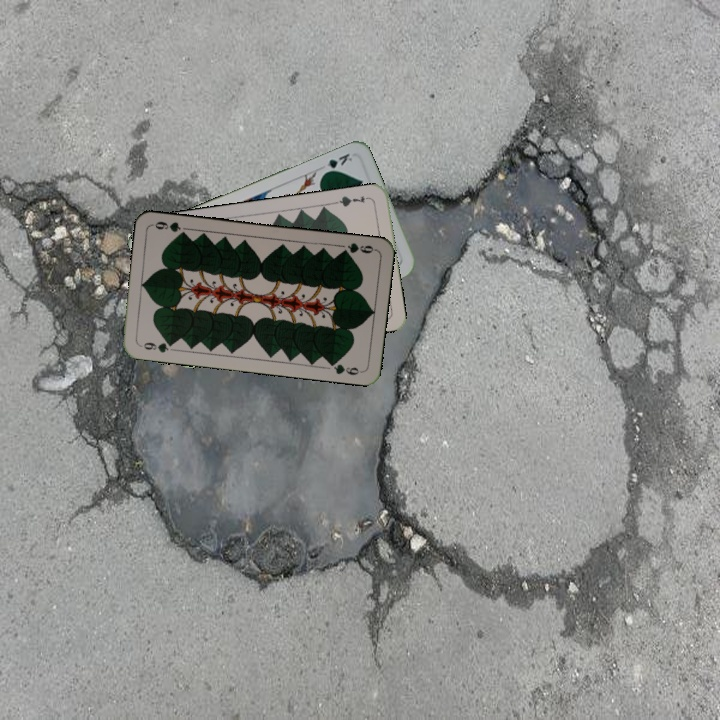G7: (332, 192, 372, 209)
G9: (337, 239, 378, 257), (136, 338, 177, 355)
GK: (319, 149, 355, 177)
